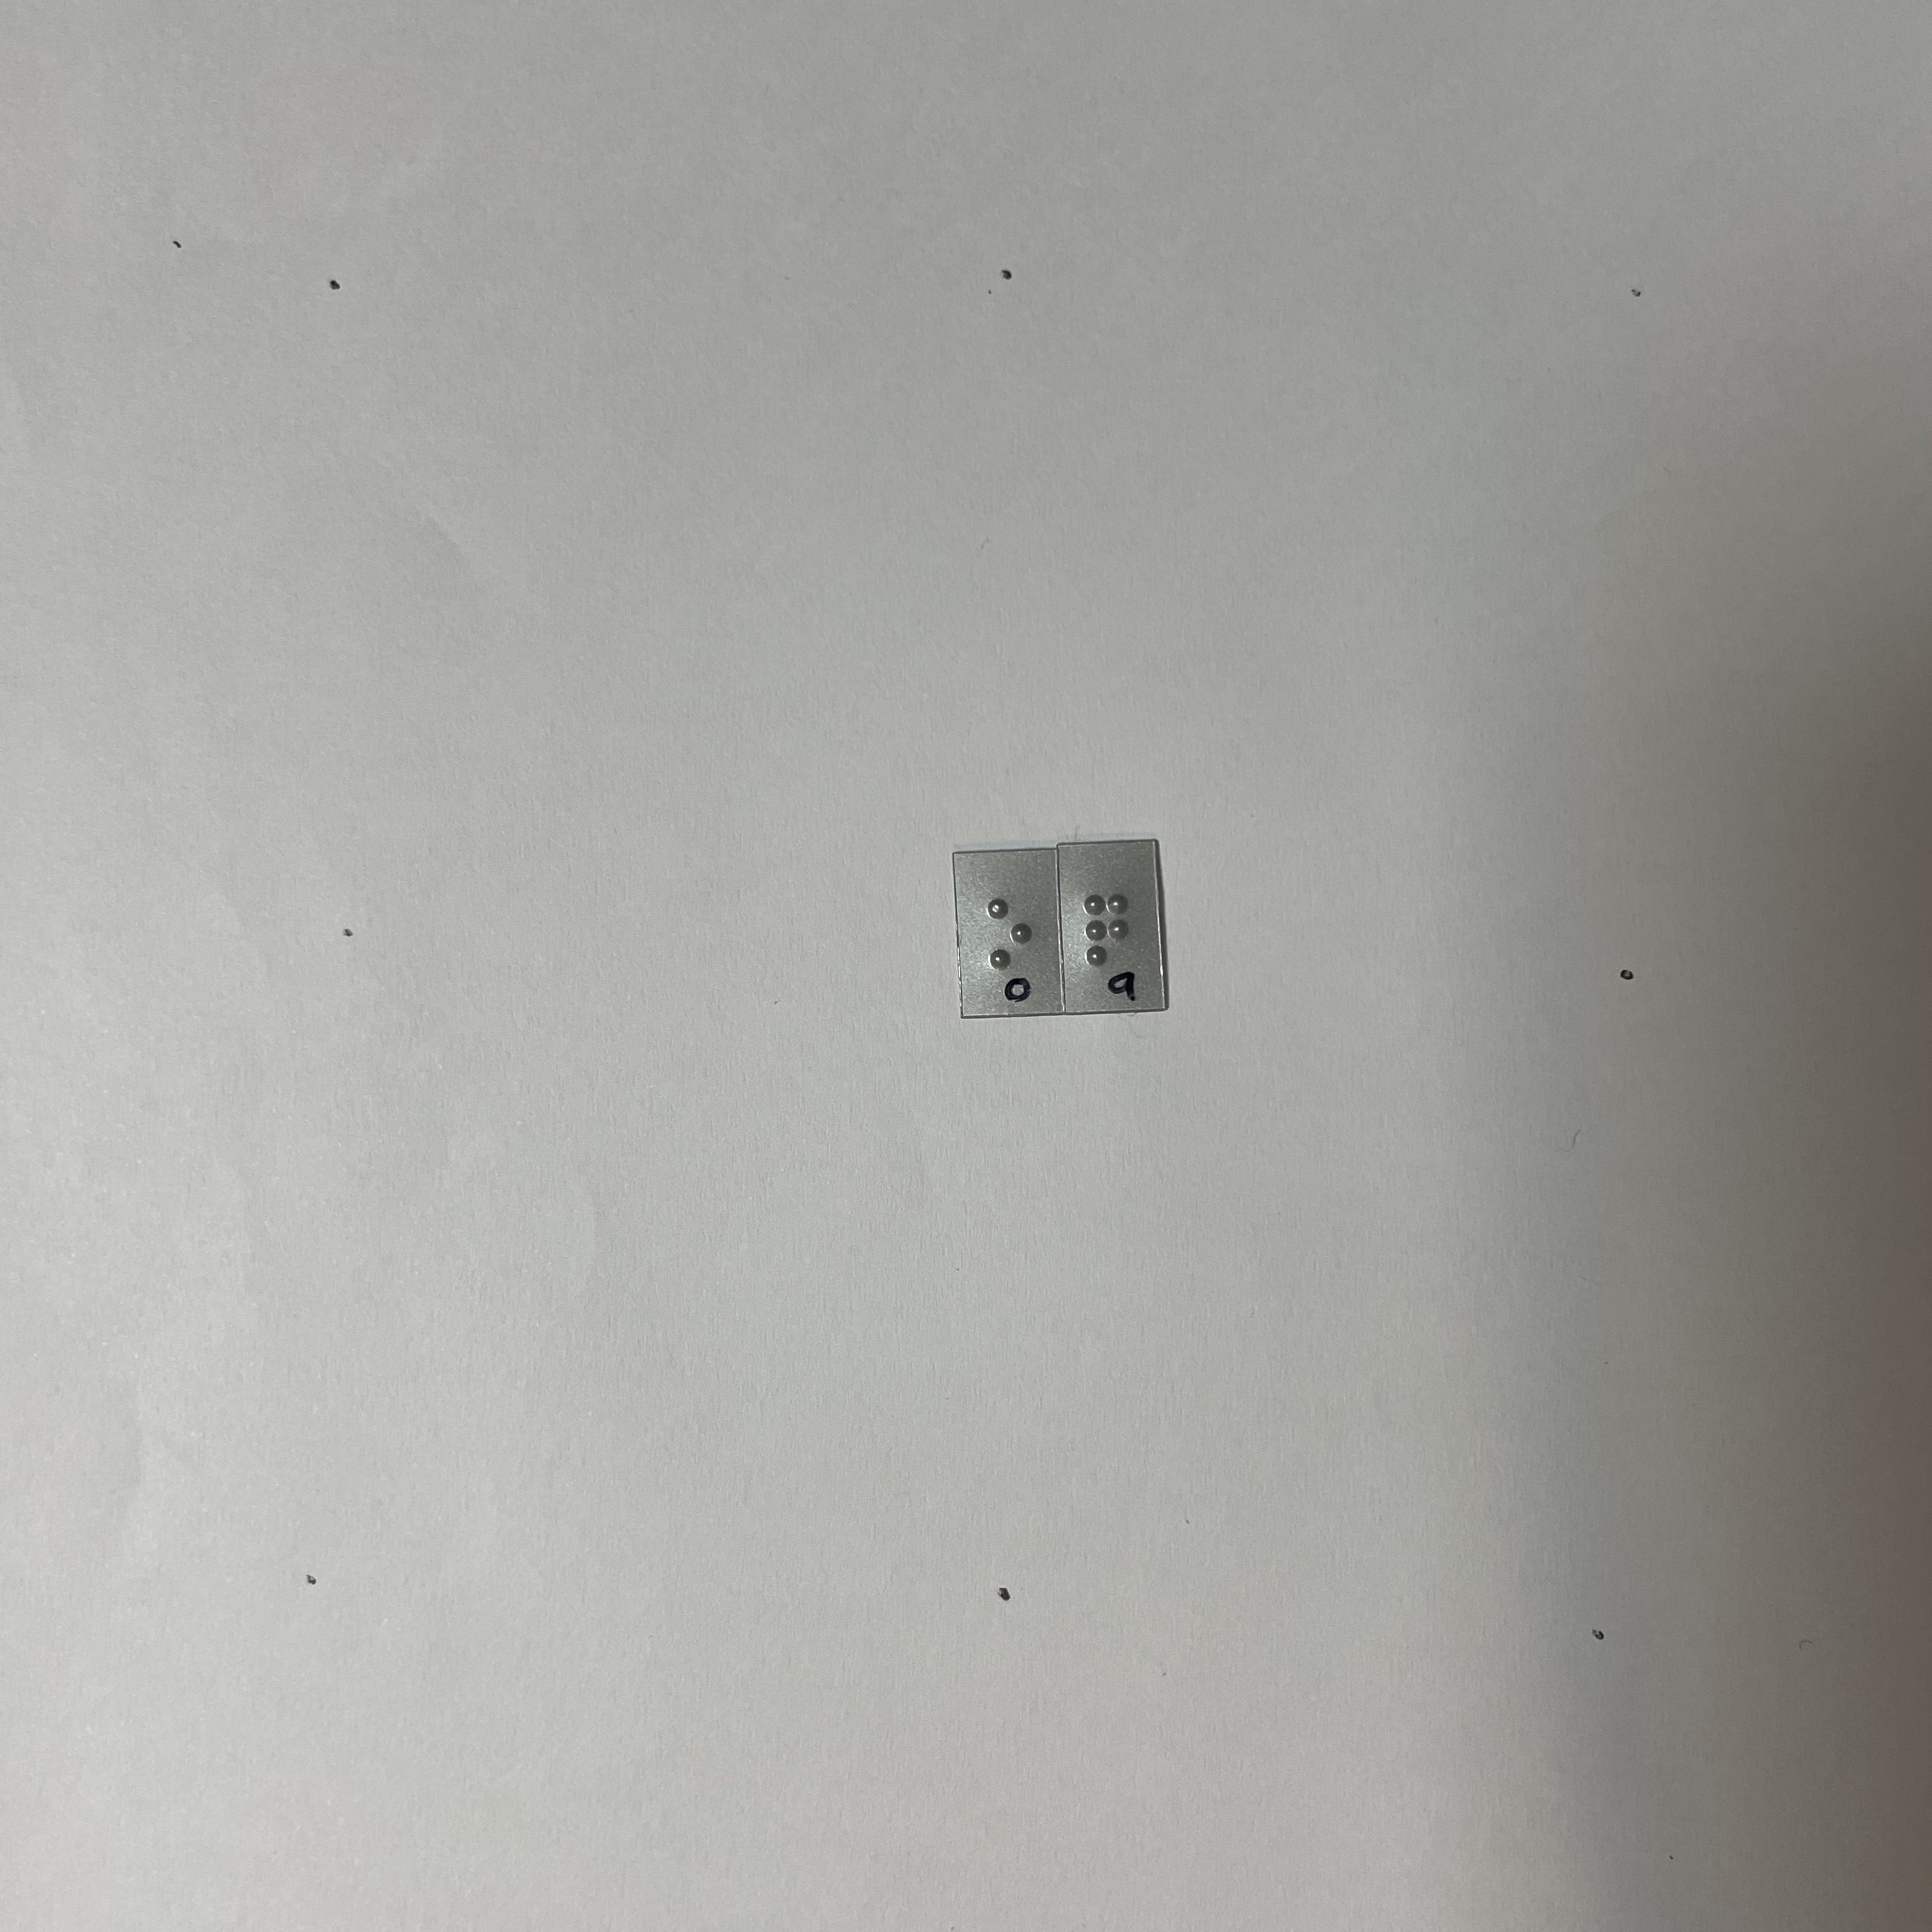o: (983, 890, 1040, 978)
q: (1075, 885, 1137, 969)
